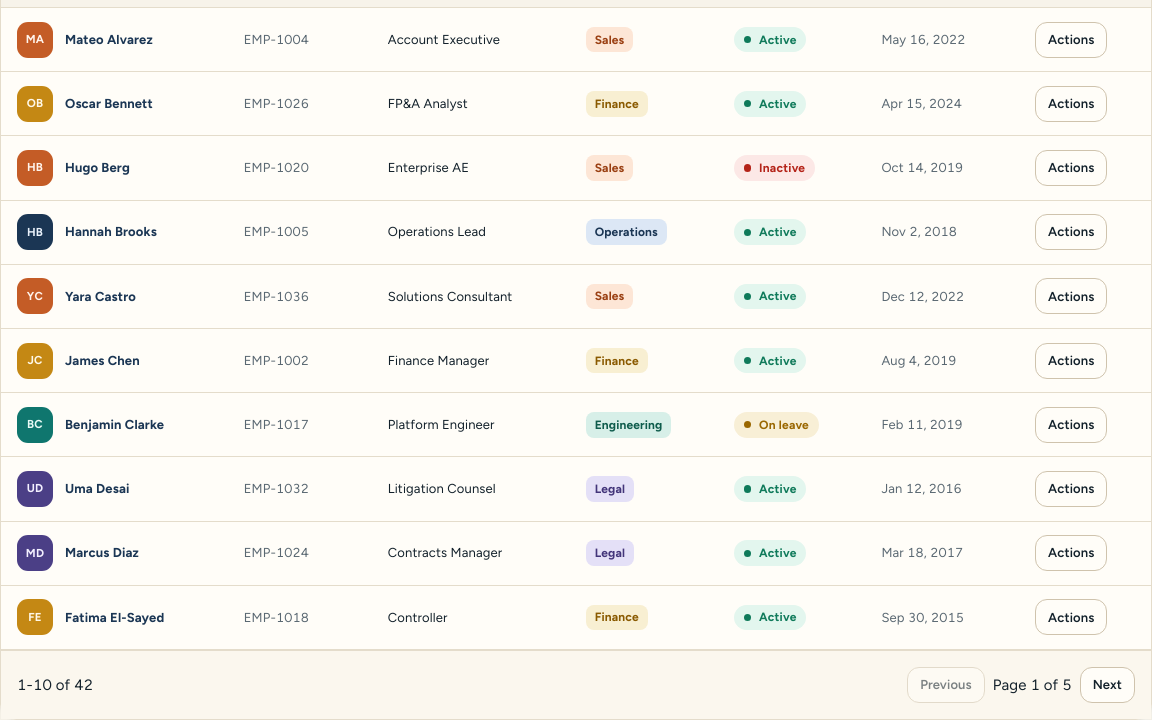
it: Employee list › opens employee details from the actions menu
This screenshot has width=1152, height=720.
(page scrolled)
Click the button with aria-label "Actions for James Chen" at (1071, 361), box 1035,343 -> 1107,379
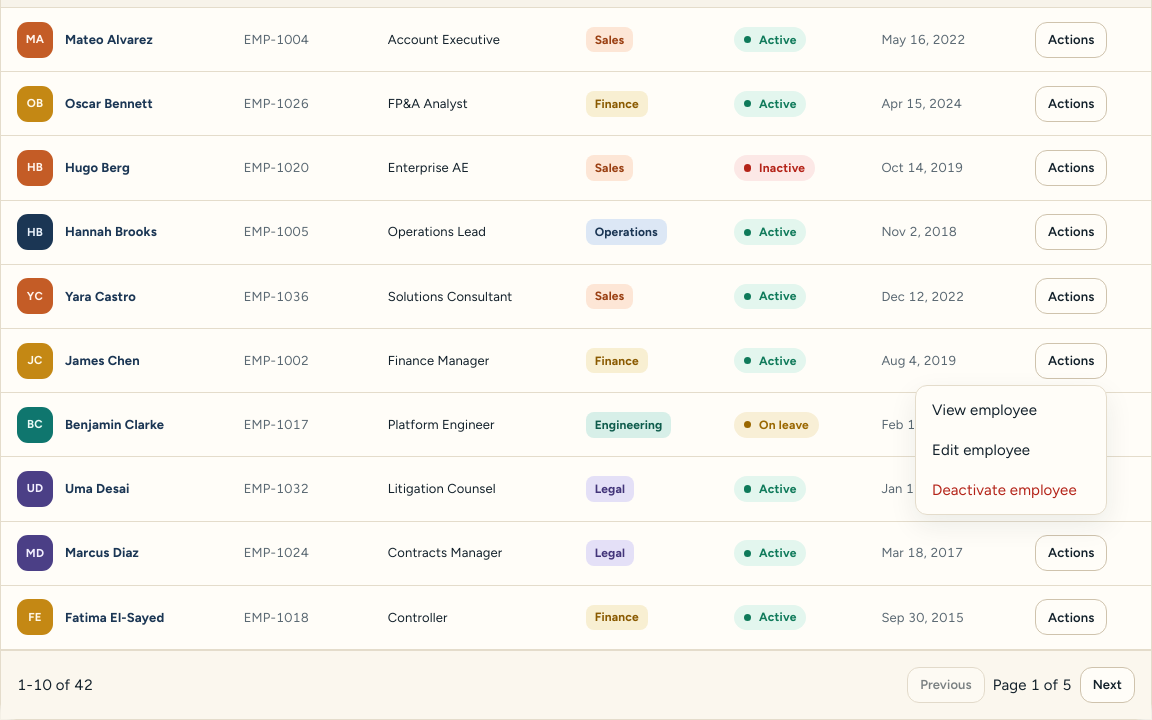
Click the menu item "View employee" at (984, 410), box 932,401 -> 1037,419
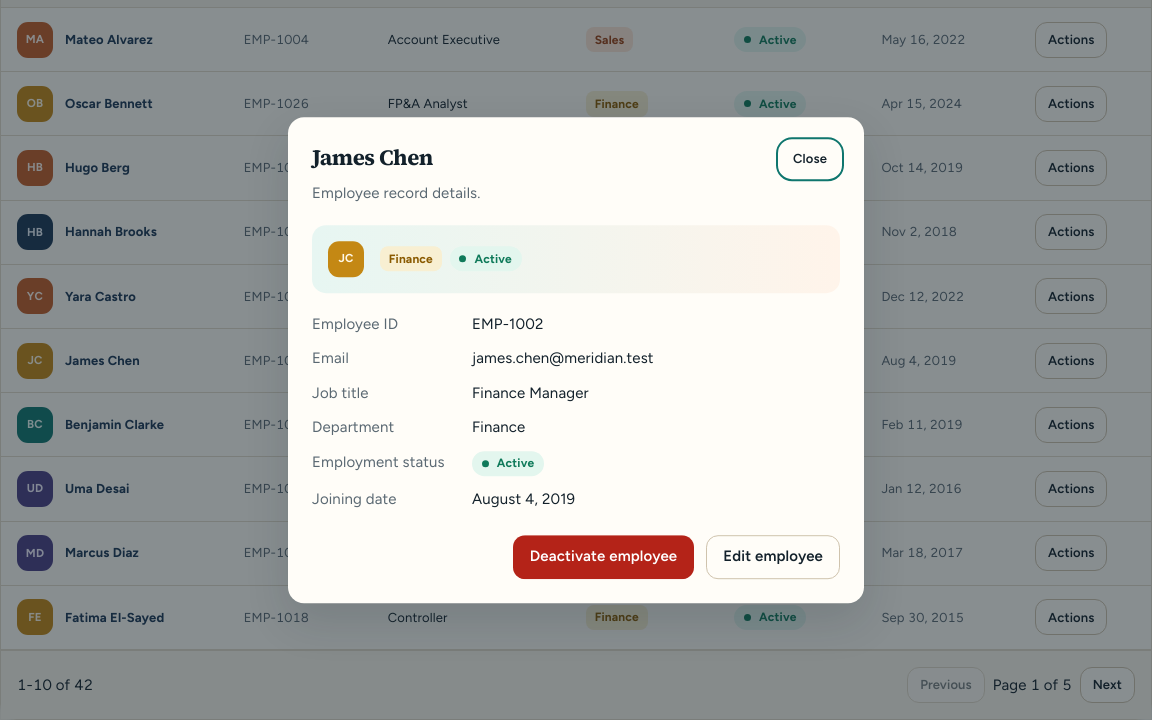
Expected: the button "Edit employee" is shown, 706,535 -> 840,579
Expected: the text "james.chen@meridian.test" is shown, 472,349 -> 654,367
Expected: the text "Finance Manager" is shown, 472,384 -> 589,402
